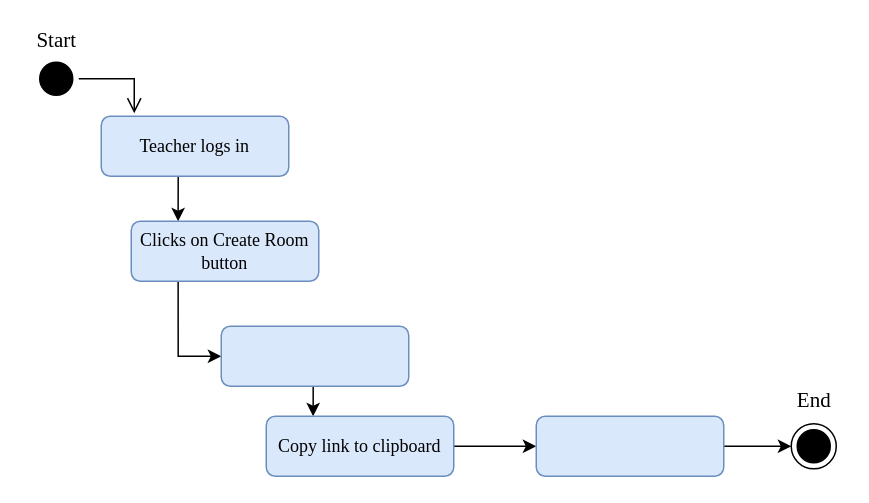
This 869x503 diagram has some shape labels left out. Each missing label, with the centre of its shape:
Generation of unique room id: pixel 314 355
Share link: pixel 629 445
